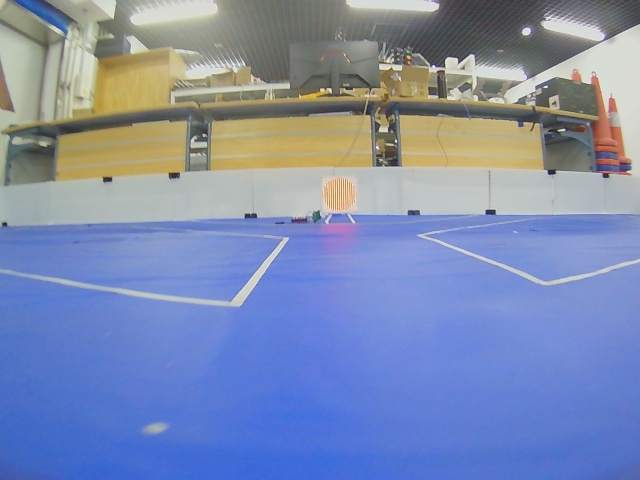red: (322, 177, 357, 213)
